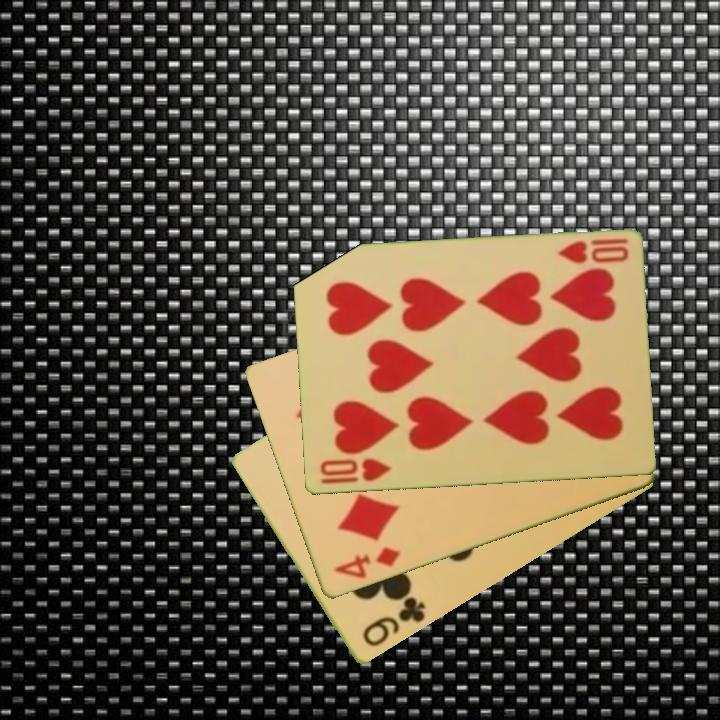10h: (316, 455, 394, 488), (554, 235, 631, 267)
4d: (330, 543, 403, 583)
9c: (358, 593, 429, 651)
